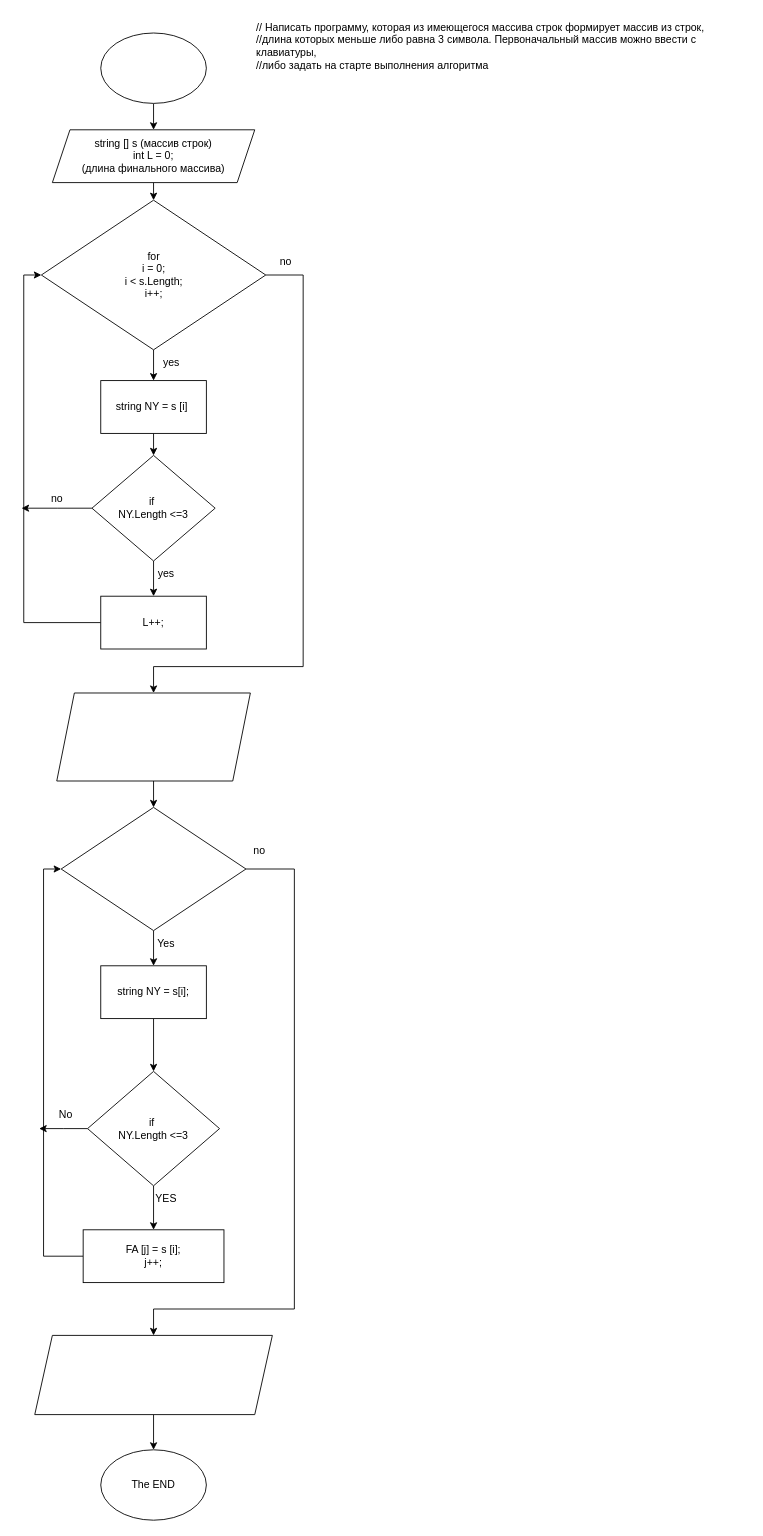
The diagram is 763 pixels wide and 1536 high, and some of its shapes have lost their labels. Each missing label, with the box of its shape:
for int i =0; i < s.Length; i++;: (60, 807, 246, 931)
Print FA: (34, 1335, 272, 1415)
START: (100, 32, 206, 103)
string [] s; L; int j =0; string [] FA (финальный массив с длиной L): (56, 692, 250, 781)
